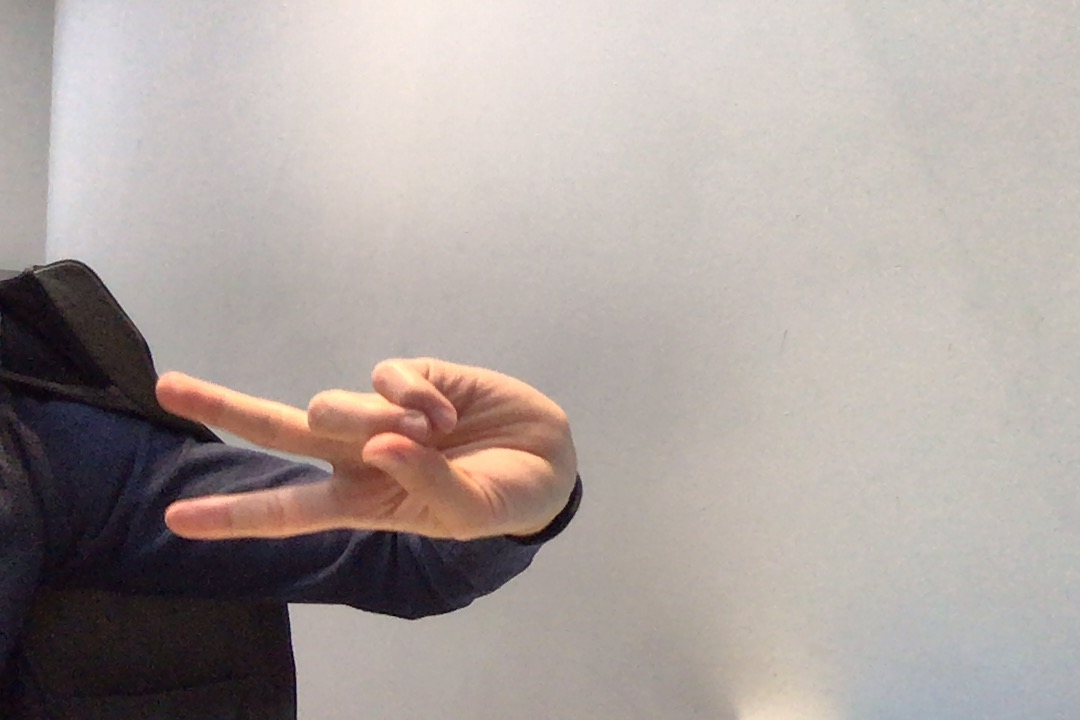peacesign: (147, 345, 592, 556)
